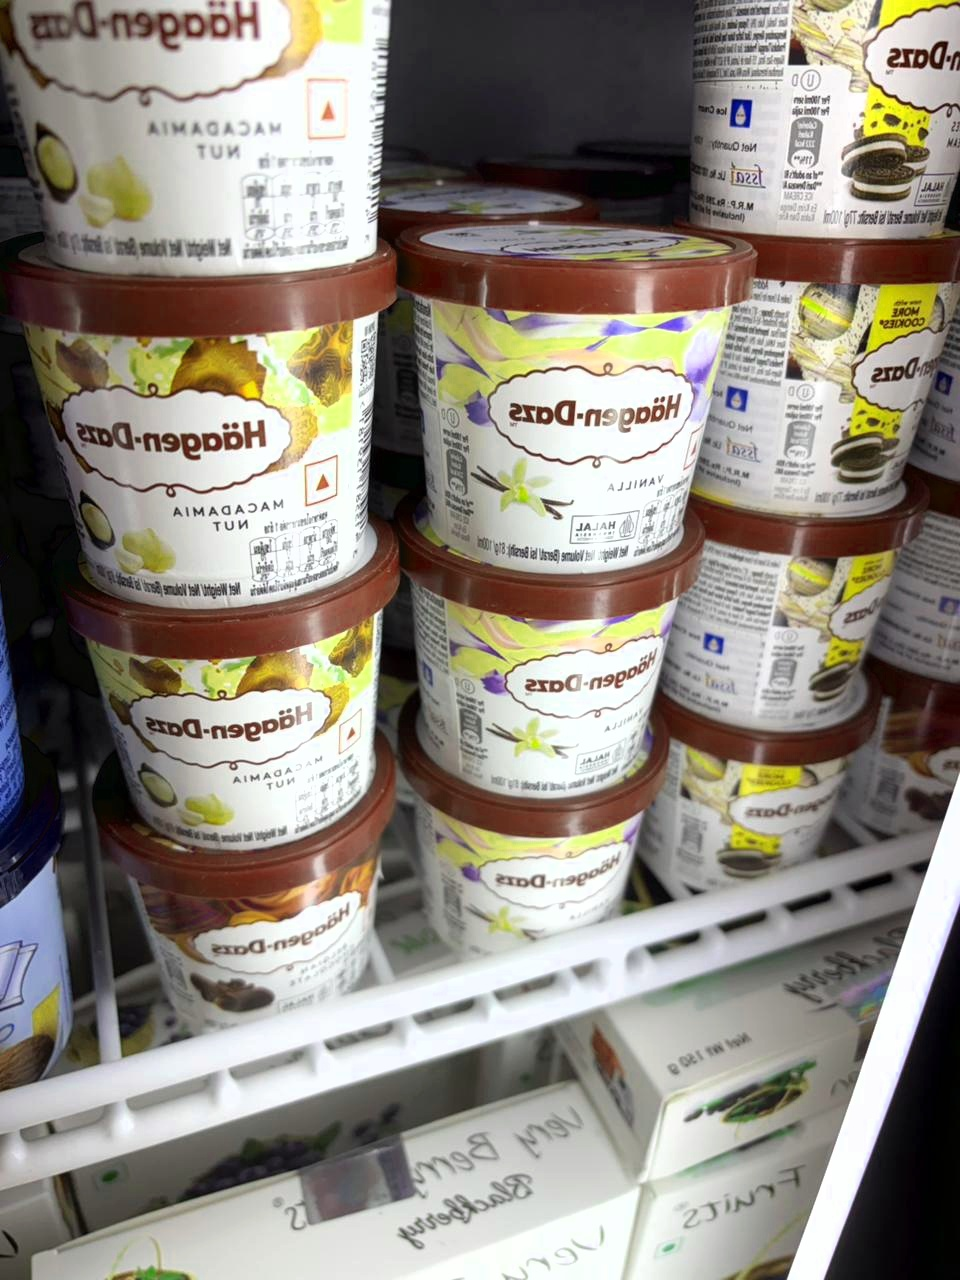Haagen-Dazs IceCream Tub: (40, 228, 418, 619), (97, 703, 415, 1091), (404, 207, 766, 544), (85, 515, 410, 875), (9, 0, 394, 271), (412, 518, 719, 809), (677, 240, 953, 527), (407, 723, 674, 998), (675, 0, 960, 241), (664, 465, 928, 706), (656, 671, 886, 898)
